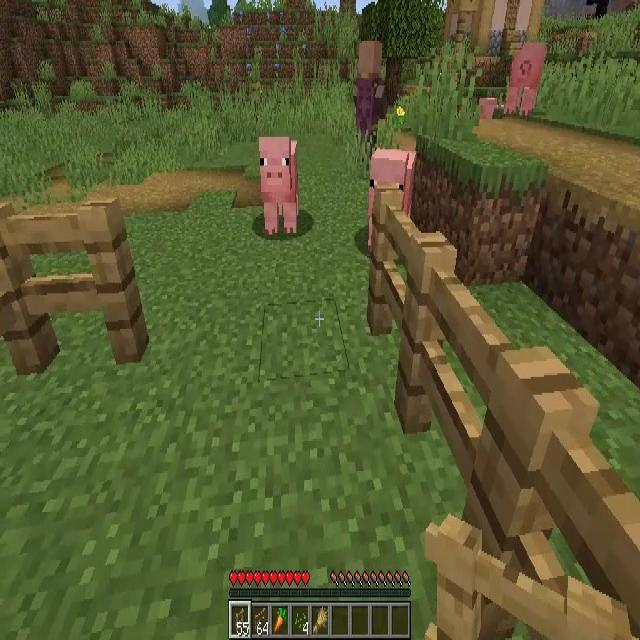flower: (397, 106, 404, 124)
people: (354, 41, 387, 162)
pig: (370, 147, 413, 255), (258, 137, 297, 233), (504, 45, 546, 115)
